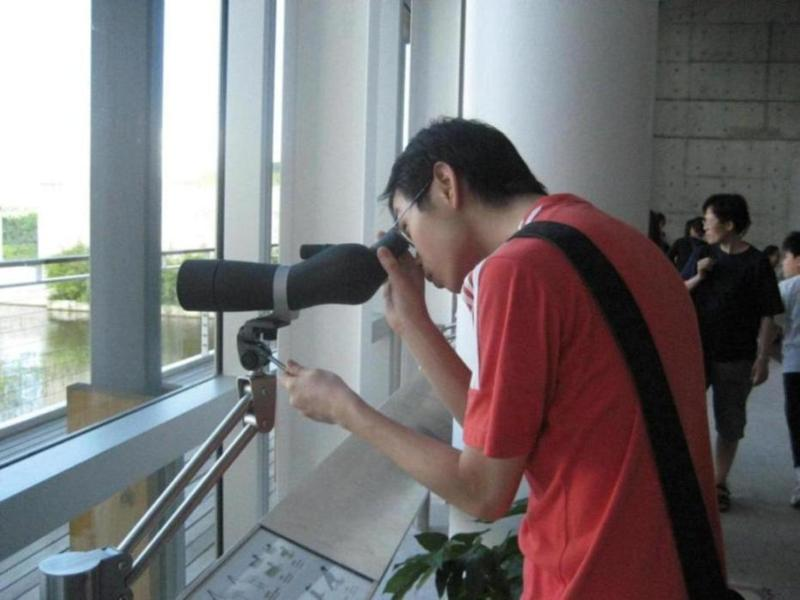person: (278, 117, 734, 600)
